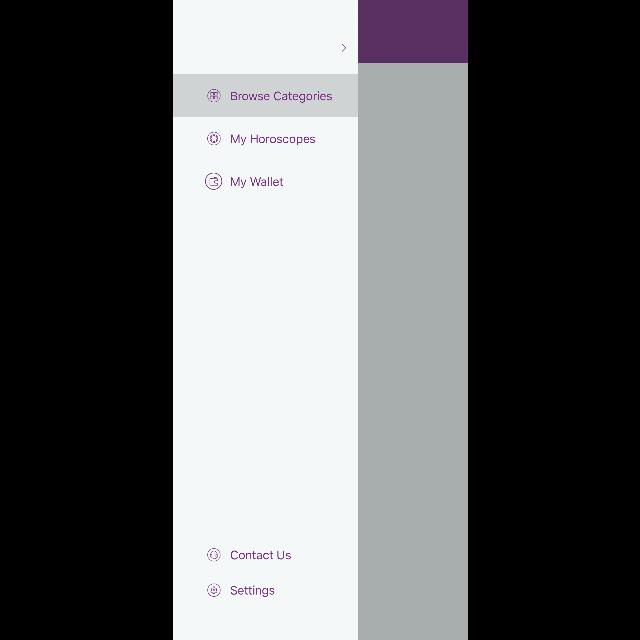icon: (204, 172, 222, 190), (207, 132, 220, 146), (207, 548, 220, 562), (207, 90, 220, 102), (207, 584, 220, 596), (341, 44, 345, 52)
panel: (172, 1, 358, 640)
text: (230, 91, 332, 102), (230, 135, 314, 145), (230, 550, 290, 560), (230, 178, 282, 188), (230, 586, 274, 596)
